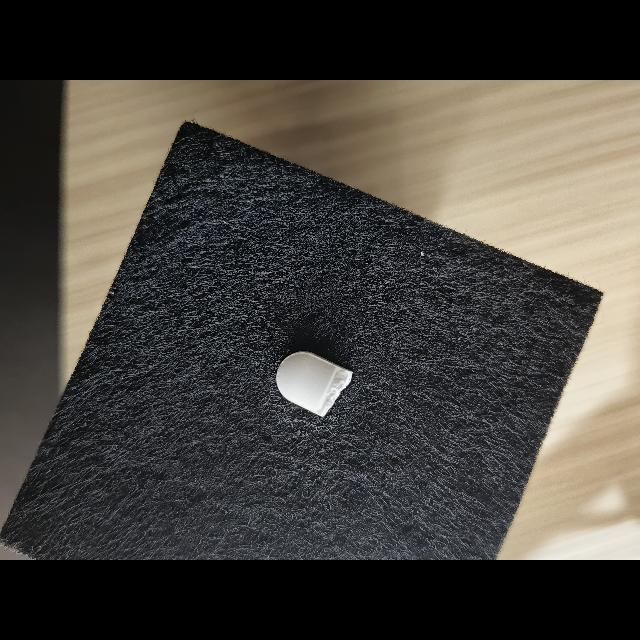Chipped Pill: (276, 351, 353, 417)
